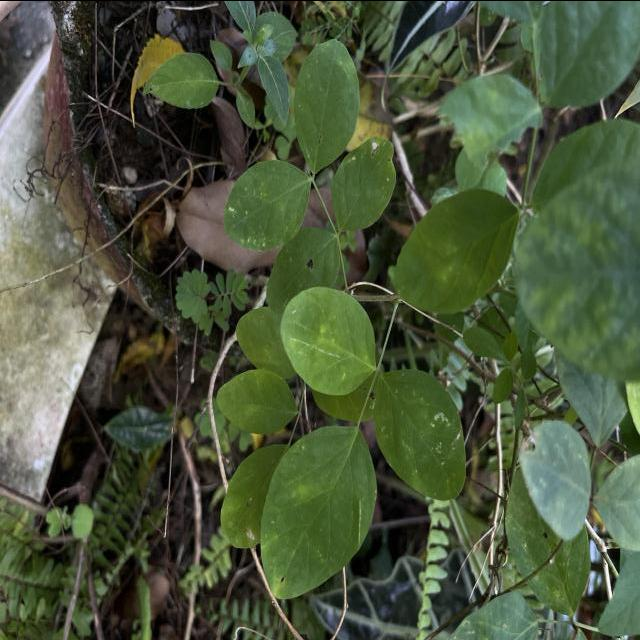Clitoria ternatea: (258, 424, 378, 600), (372, 366, 468, 500), (279, 284, 377, 396), (293, 37, 360, 173), (222, 158, 312, 252), (331, 134, 397, 232)
